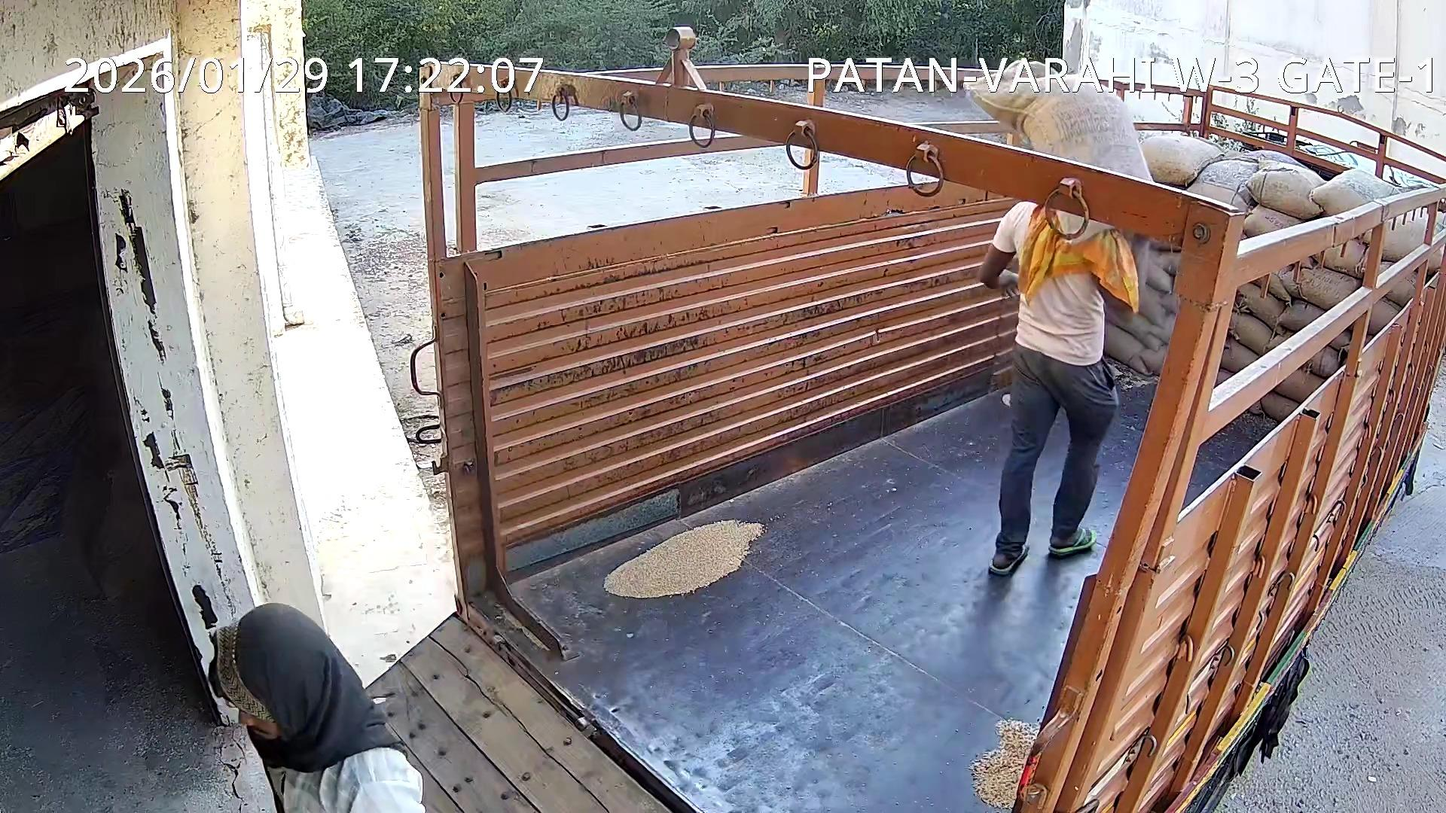Sack: (975, 60, 1151, 180)
